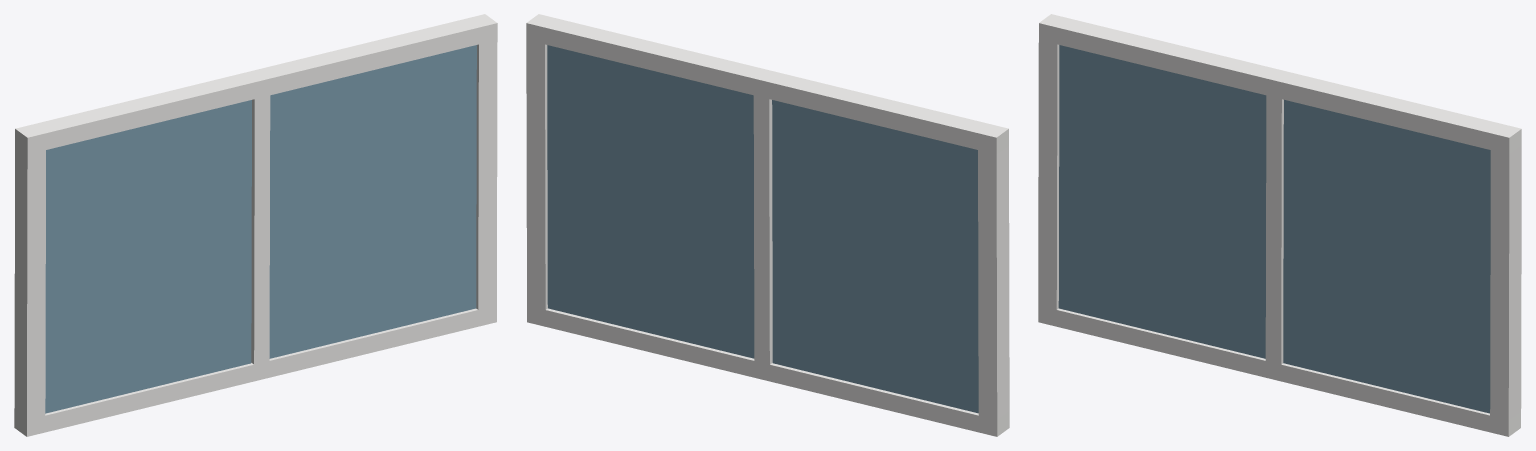
Rendered from Window_23.fbx.
The picture shows the model from 3 angles, left to right: view 1: azimuth 30°, elevation 25°; view 2: azimuth 150°, elevation 25°; view 3: azimuth 330°, elevation 25°; orthographic projection.
Parts seen in each view (by area): view 1: Window_23; view 2: Window_23; view 3: Window_23.
Boxes of the visible parts, x1,y1,x2,y2 form: Window_23: [14, 14, 497, 436]; Window_23: [526, 14, 1009, 436]; Window_23: [1038, 14, 1521, 436].
Bounding box in the file's own units: 252 × 11.55 × 153.
